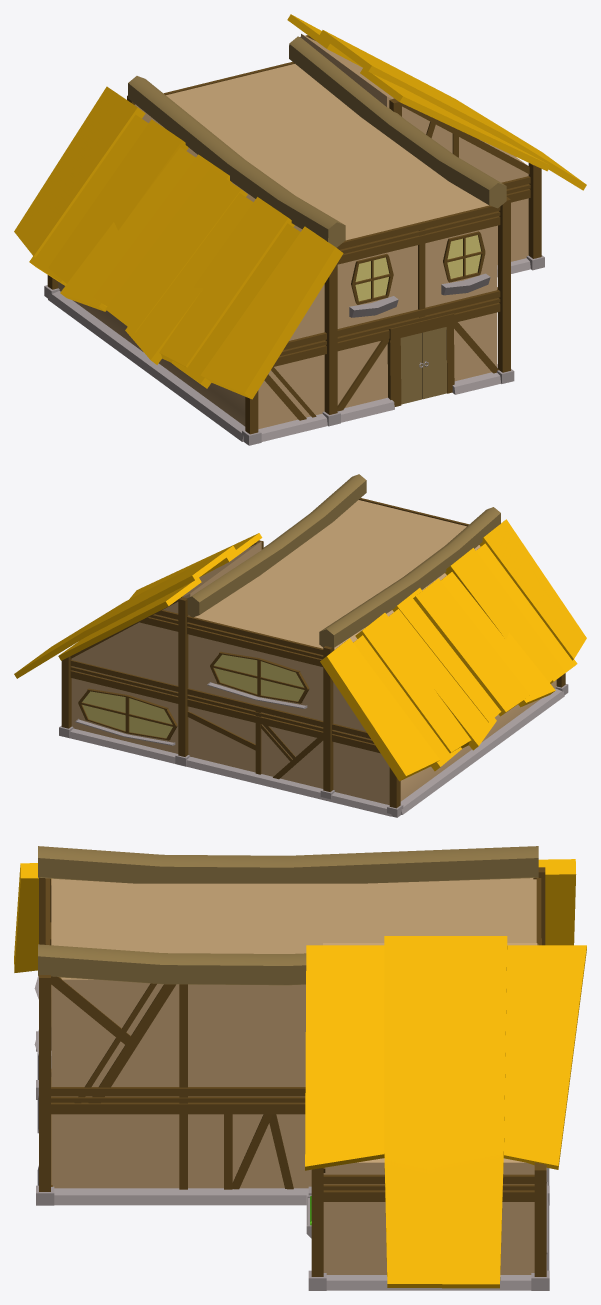
Rendered from Modular_Houses_Flat_house_1.fbx.
The picture shows the model from 3 angles, top to bottom: view 1: azimuth 30°, elevation 25°; view 2: azimuth 150°, elevation 25°; view 3: azimuth 270°, elevation 25°; orthographic projection. The views are drawn at different scales.
Visible parts, largest first — view 1: Flat_house_1; view 2: Flat_house_1; view 3: Flat_house_1.
Part boxes in pixels (box(x1,y1,x2,y2)): Flat_house_1: box(14, 14, 586, 445); Flat_house_1: box(14, 474, 586, 817); Flat_house_1: box(14, 846, 586, 1290).
Size of the model in its own units: 18.97 by 7.48 by 14.47.
1 material, 1 textured.
